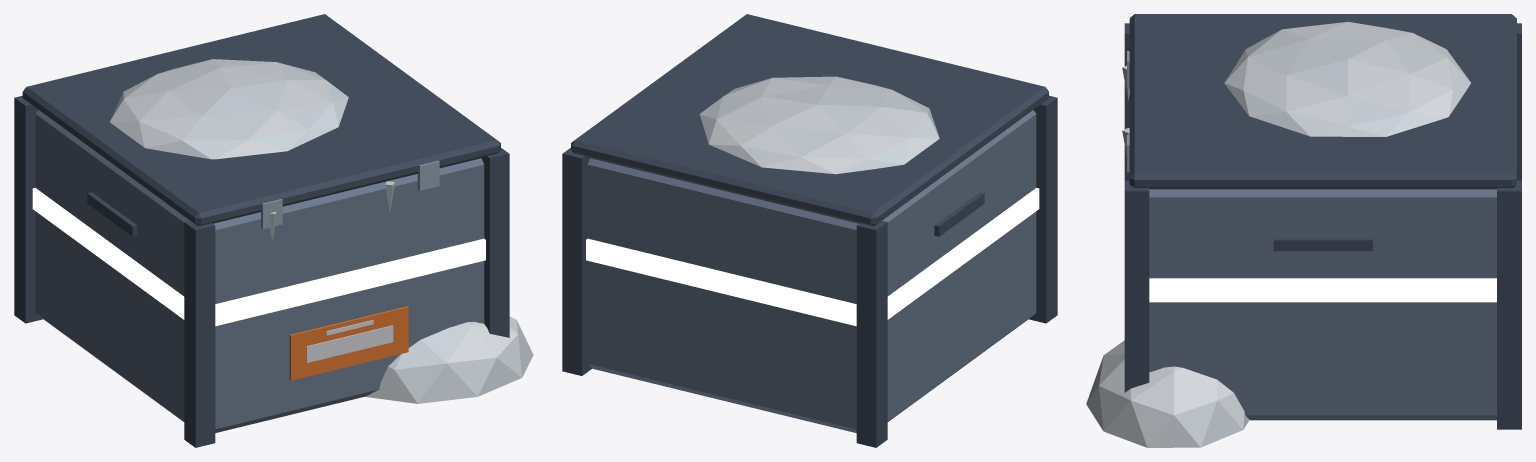
Rendered from kit-arctic-crate.glb.
3 renders of one model, left to right at view 1: azimuth 30°, elevation 25°; view 2: azimuth 150°, elevation 25°; view 3: azimuth 270°, elevation 25°, orthographic. The views are drawn at different scales.
Visible parts, largest first — view 1: kit-arctic-crate; view 2: kit-arctic-crate; view 3: kit-arctic-crate.
Part boxes in pixels (x1,y1,x2,y2): kit-arctic-crate: [14, 14, 533, 447]; kit-arctic-crate: [562, 14, 1057, 447]; kit-arctic-crate: [1086, 14, 1521, 447].
Size of the model in its own units: 1.78 by 1.24 by 1.75.
